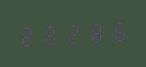eight: (40, 21, 61, 47), (84, 19, 105, 45)
six: (106, 18, 127, 44)
two: (18, 22, 39, 48), (62, 20, 83, 46)
